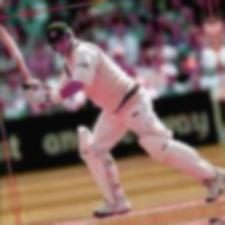batsman: (0, 8, 225, 219)
